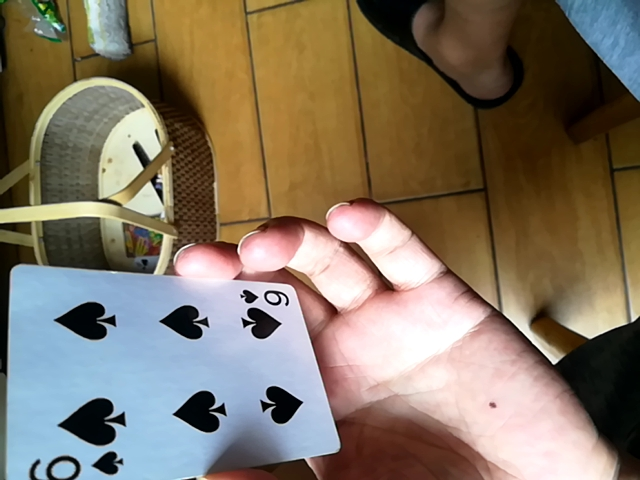ht 6: (6, 265, 338, 477)
